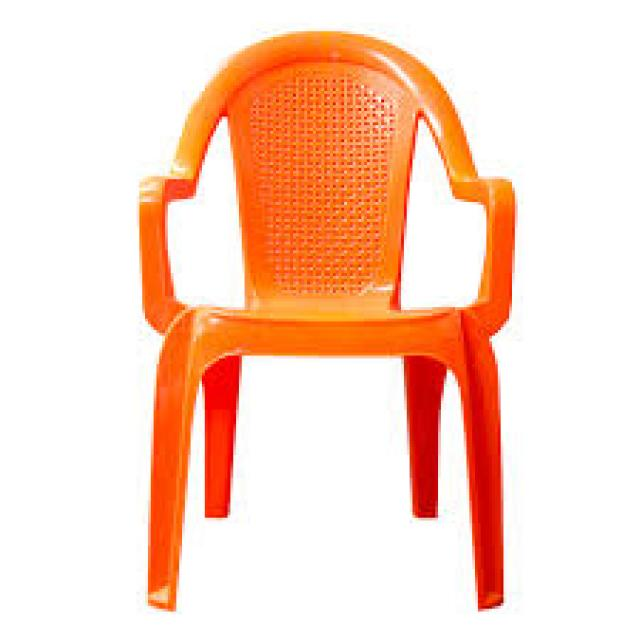chair: (119, 0, 538, 620)
